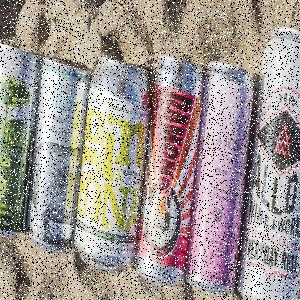Can: (186, 61, 257, 299), (135, 52, 206, 288), (74, 54, 150, 274), (247, 26, 300, 300), (29, 49, 95, 259), (1, 43, 43, 243)
